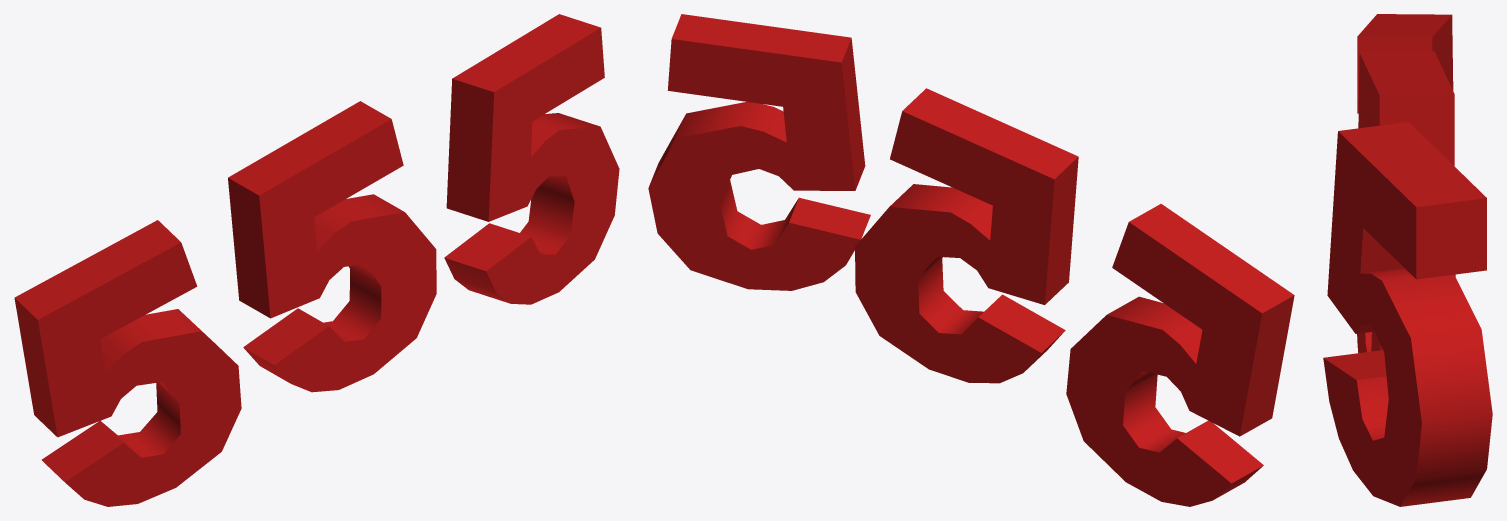
The picture shows the model from 3 angles, left to right: view 1: azimuth 30°, elevation 25°; view 2: azimuth 150°, elevation 25°; view 3: azimuth 270°, elevation 25°; orthographic projection. The views are drawn at different scales.
Parts seen in each view (by area): view 1: Text006, Text001, Text005; view 2: Text005, Text001, Text006; view 3: Text005, Text001, Text006.
Boxes of the visible parts, box(x1,y1,x2,y2) form: Text006: box(14, 220, 241, 506); Text001: box(228, 101, 436, 392); Text005: box(444, 14, 619, 304); Text005: box(648, 14, 870, 290); Text001: box(855, 88, 1078, 383); Text006: box(1066, 204, 1294, 506); Text005: box(1323, 122, 1492, 506); Text001: box(1357, 51, 1454, 353); Text006: box(1357, 14, 1455, 276).
Bounding box in the file's own units: 52.79 × 29.35 × 9.45.
